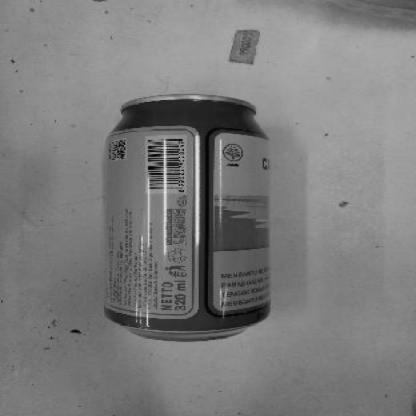alumunium_can: (101, 93, 272, 345)
